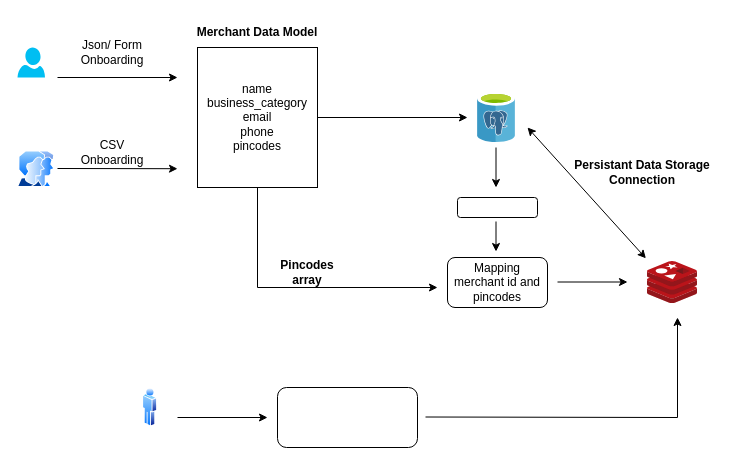
The diagram is 734 pixels wide and 465 high, and some of its shapes have lost their labels. Each missing label, with the box of its shape:
merchant_id: (456, 196, 538, 218)
Query and Verify Merchant Pincode Serviceability: (276, 386, 418, 448)
